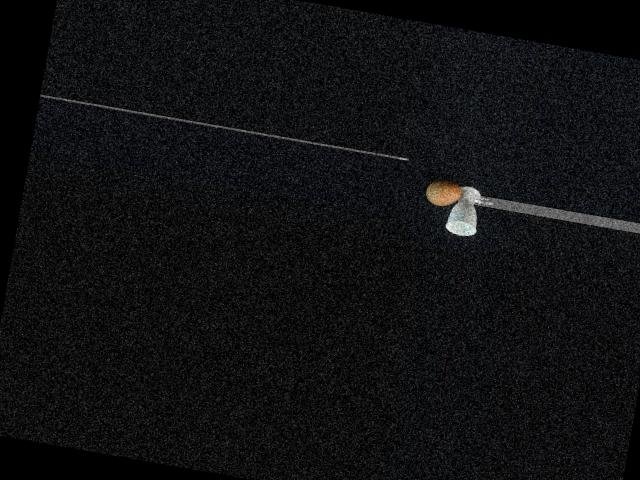egg: (425, 178, 463, 209)
